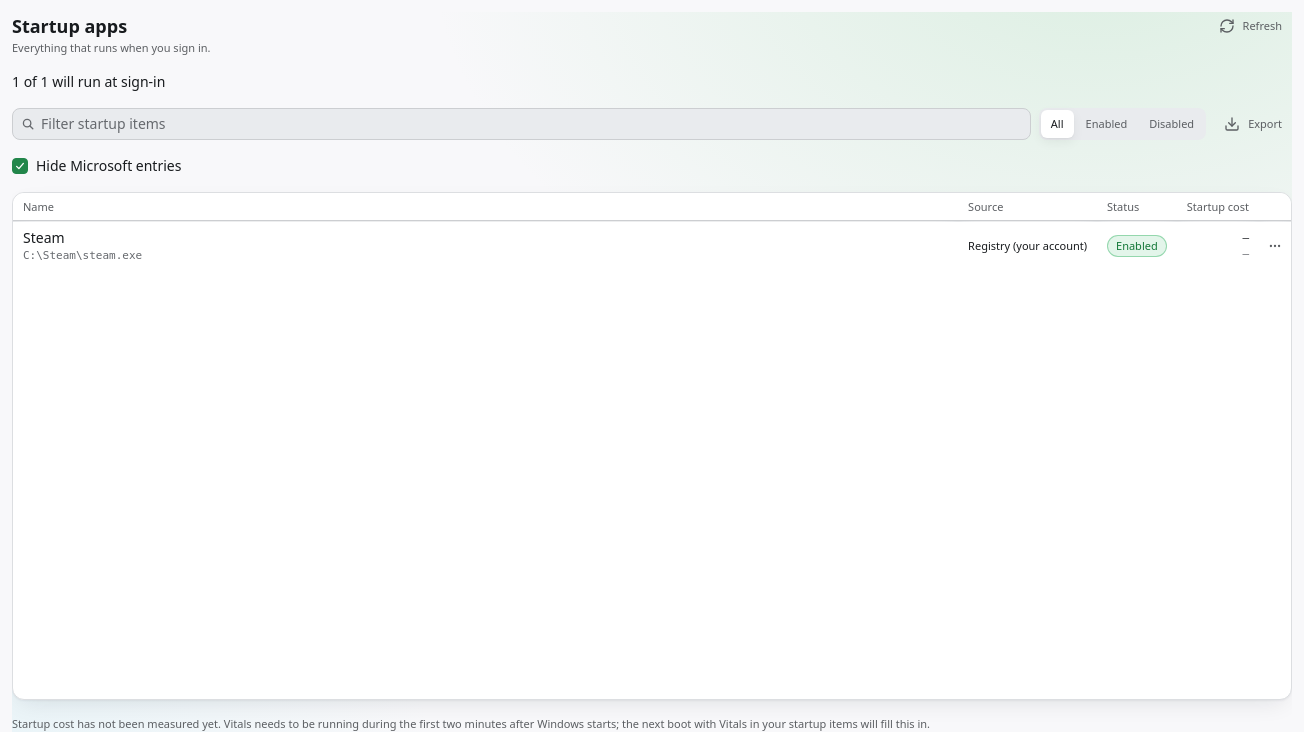
Test: StartupScreen › says nothing matched rather than showing an empty table
Expected: the heading "Startup apps" is shown, [12,14,127,38]
In the search field: (531, 124) [41,114,1022,134], type "nothing-here"
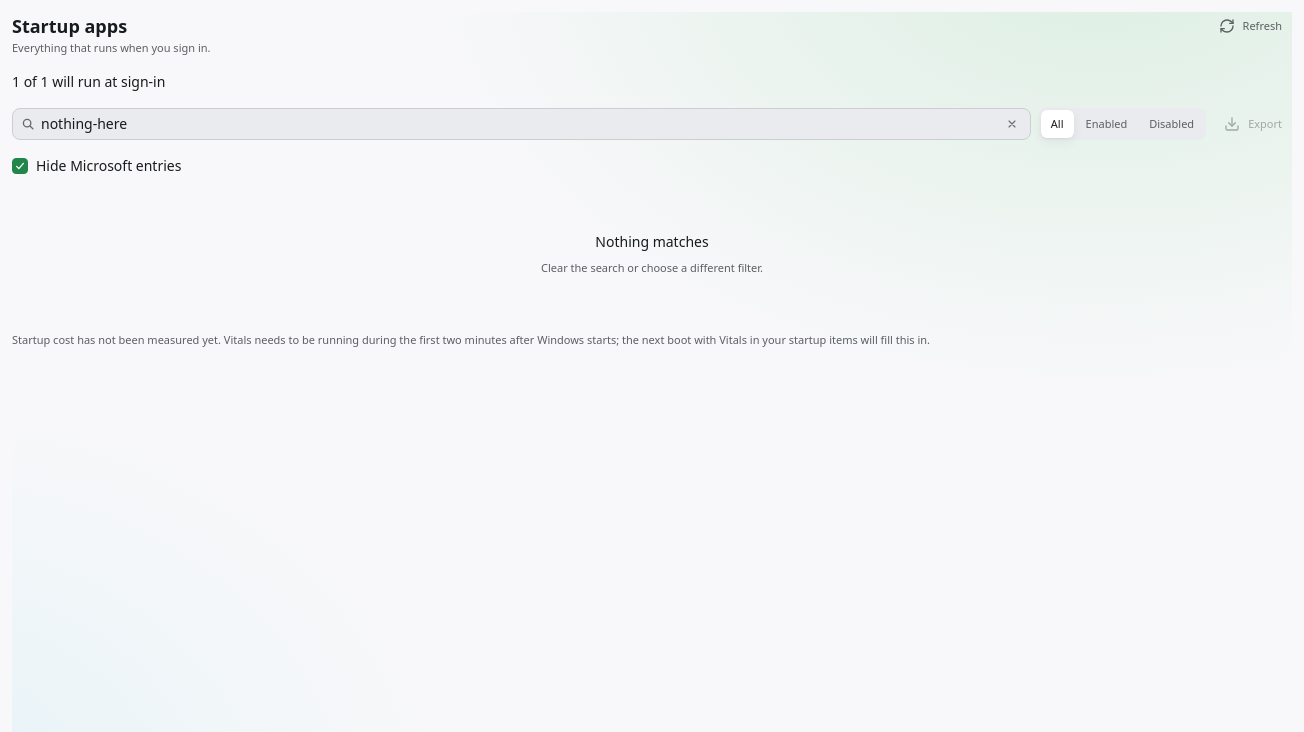
Result: the text "Nothing matches" is shown at [595,232,709,252]
